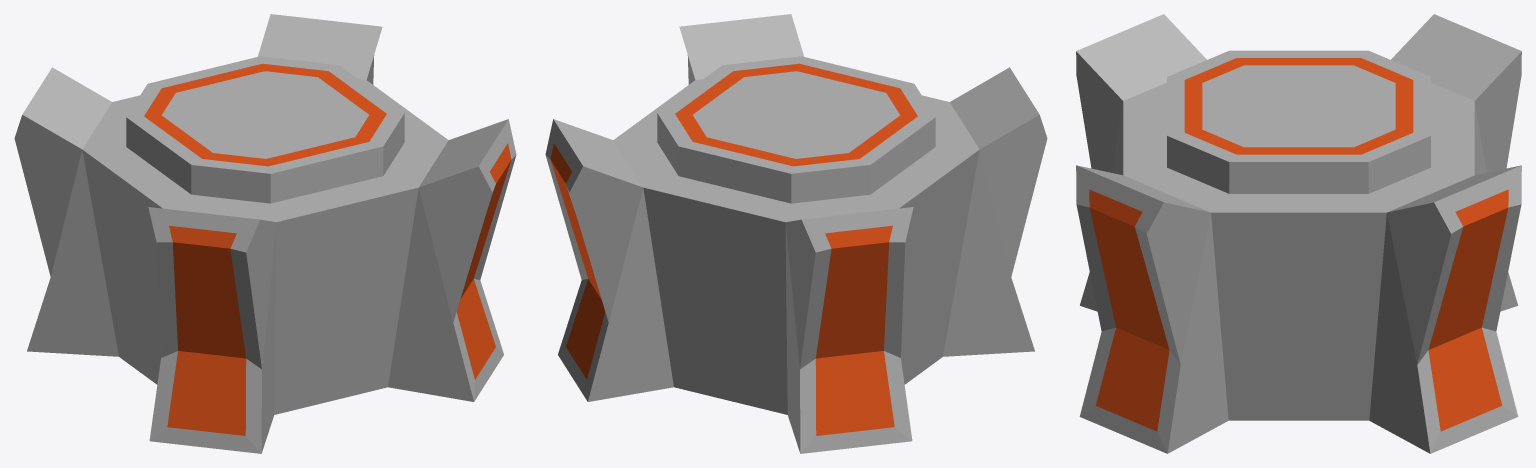
Rendered from Wizzard Tower lev 3.fbx.
The picture shows the model from 3 angles, left to right: view 1: azimuth 30°, elevation 25°; view 2: azimuth 150°, elevation 25°; view 3: azimuth 270°, elevation 25°; orthographic projection. The views are drawn at different scales.
Parts seen in each view (by area): view 1: Torre Wizzard.014; view 2: Torre Wizzard.014; view 3: Torre Wizzard.014.
Part boxes in pixels (bbox=[...]): Torre Wizzard.014: bbox=[14, 14, 516, 453]; Torre Wizzard.014: bbox=[545, 14, 1047, 453]; Torre Wizzard.014: bbox=[1076, 14, 1521, 453].
Bounding box in the file's own units: 19.02 × 12 × 19.02.
